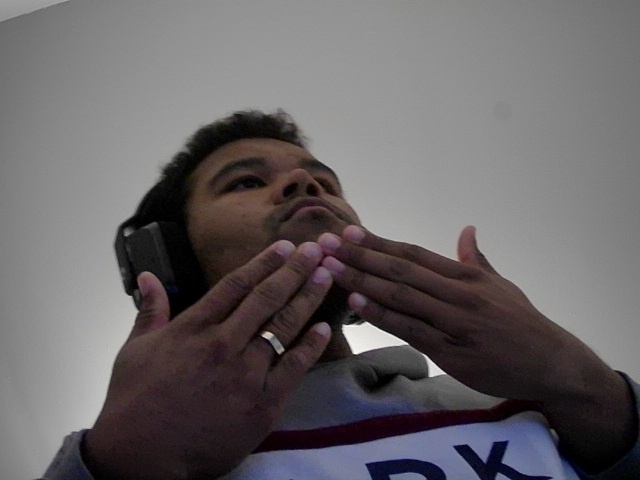ThankYou: (73, 219, 640, 480)
